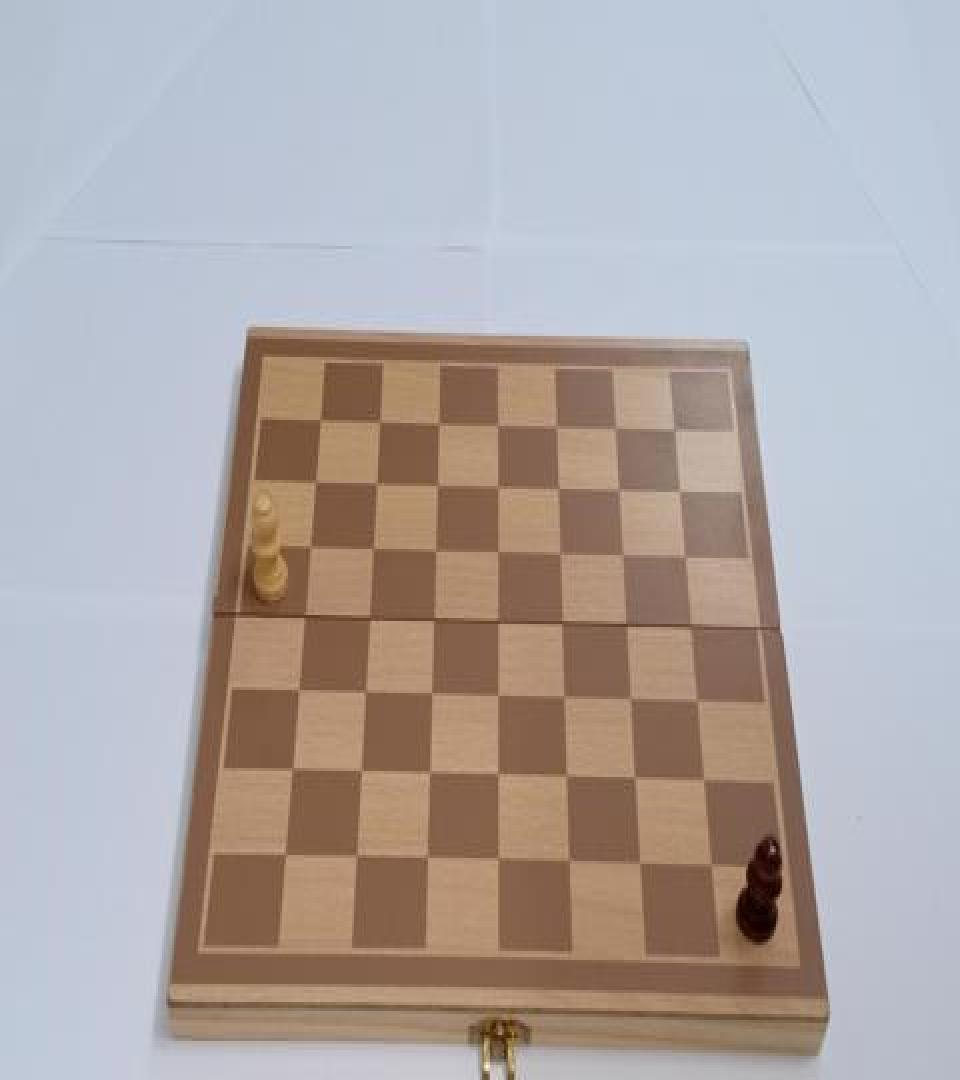xcorner: (313, 406, 331, 434), (421, 760, 439, 788), (488, 472, 506, 500), (546, 412, 564, 440), (308, 468, 326, 495), (302, 534, 320, 561), (297, 603, 315, 630), (290, 676, 308, 703), (284, 756, 302, 783), (277, 840, 295, 867), (371, 408, 389, 435), (368, 470, 386, 497), (360, 604, 378, 631), (356, 678, 374, 705), (348, 843, 366, 870), (428, 471, 446, 498), (426, 537, 444, 564), (424, 606, 442, 633), (423, 681, 441, 708), (418, 844, 436, 871), (488, 411, 506, 438), (488, 538, 506, 565), (489, 683, 507, 710), (489, 762, 507, 789), (548, 474, 566, 501), (550, 540, 568, 567), (553, 609, 571, 636), (555, 684, 573, 711), (561, 849, 579, 876), (605, 414, 623, 441), (617, 612, 635, 639), (627, 766, 645, 793), (632, 852, 650, 879), (664, 415, 682, 442), (669, 477, 687, 504), (675, 543, 693, 570), (688, 689, 706, 716), (696, 768, 714, 795), (364, 536, 382, 562), (352, 758, 370, 784), (429, 410, 447, 436), (489, 608, 507, 634), (489, 848, 507, 874), (558, 764, 576, 790), (609, 476, 627, 502), (613, 542, 631, 568), (622, 686, 640, 712), (682, 614, 700, 640), (703, 854, 721, 880)
